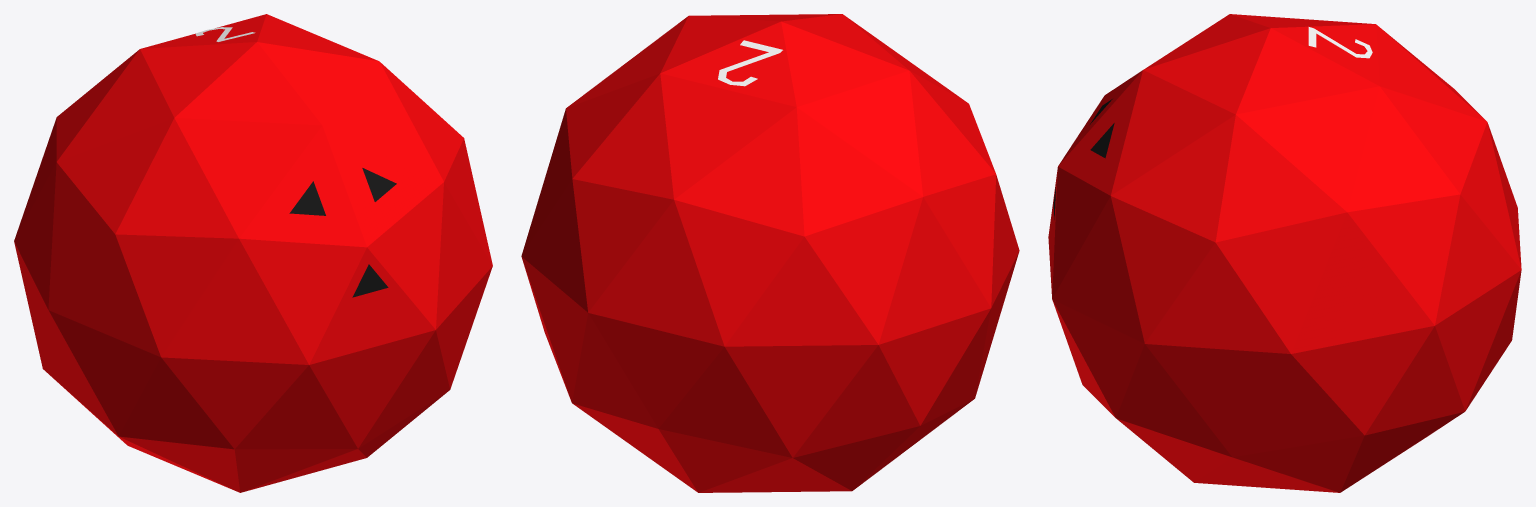
The model's file is Bowling_Ball_2.fbx.
3 renders of one model, left to right at view 1: azimuth 30°, elevation 25°; view 2: azimuth 150°, elevation 25°; view 3: azimuth 270°, elevation 25°, orthographic. The views are drawn at different scales.
Parts seen in each view (by area): view 1: Bowling_Ball_2; view 2: Bowling_Ball_2; view 3: Bowling_Ball_2.
Boxes of the visible parts, x1,y1,x2,y2 form: Bowling_Ball_2: (14, 14, 492, 492); Bowling_Ball_2: (521, 14, 1019, 492); Bowling_Ball_2: (1048, 14, 1521, 492).
Bounding box in the file's own units: 28.65 × 28.61 × 27.42.
